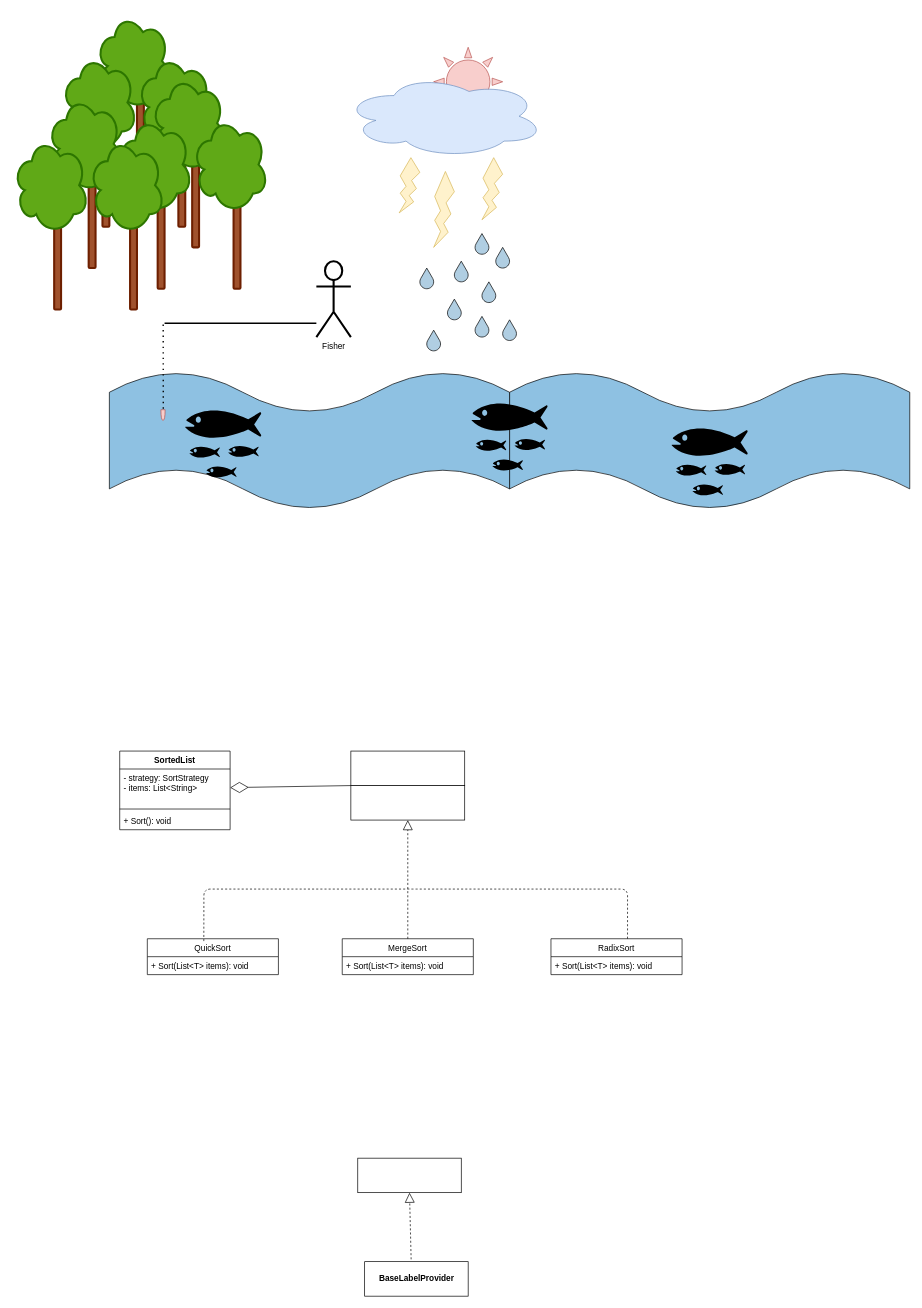
This 922x1308 diagram has some shape labels left out. Here are the shapes that lost their labels. From the top down, the centre of each, then its label:
[407,768]: «interface» SortStrategy
[407,802]: + Sort(List<T> items): void
[409,1175]: «interface» IBaseLabelProvider
